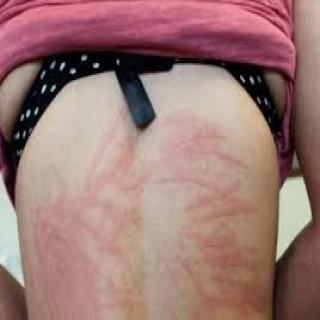urticaria: (173, 116, 254, 314), (53, 113, 122, 306)
